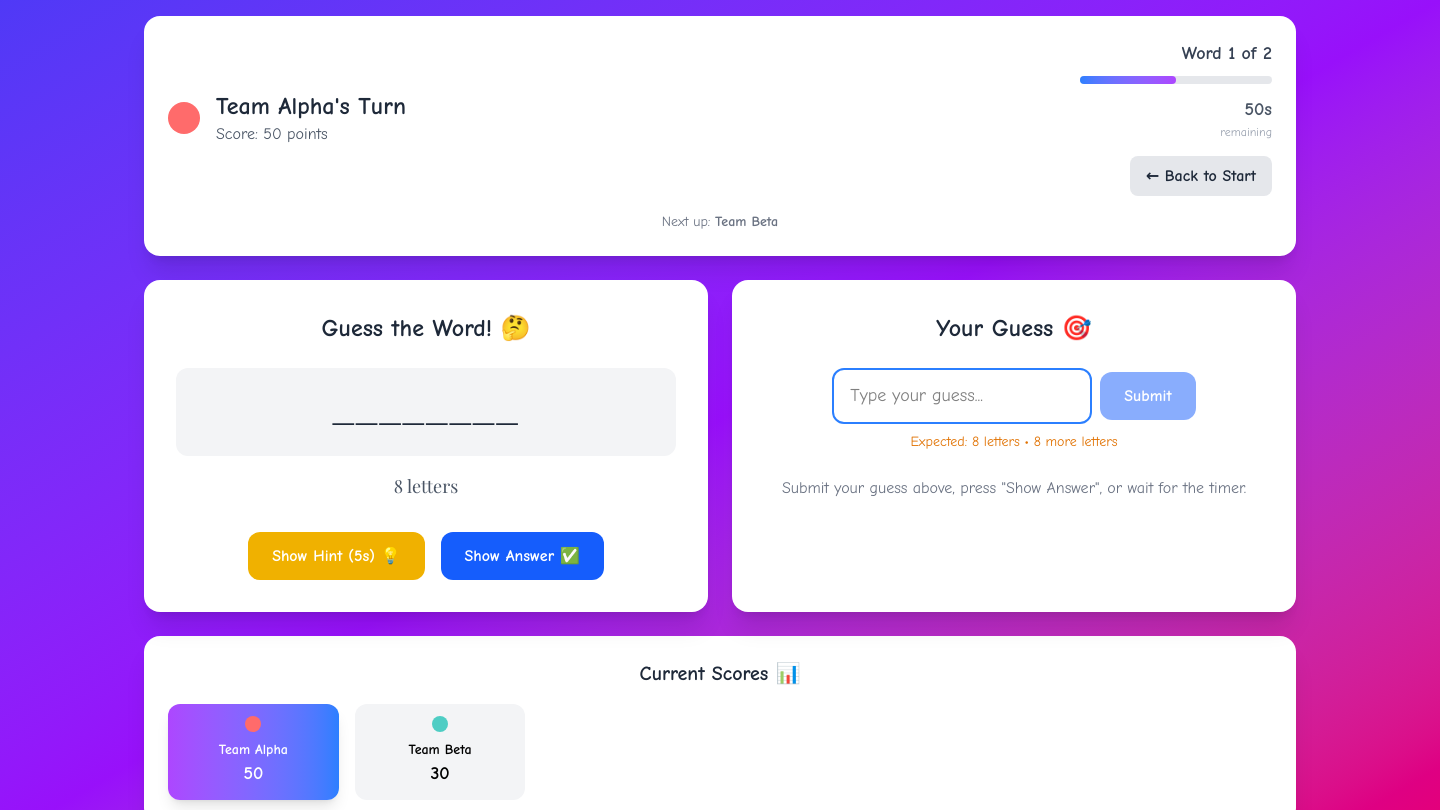
Test: GameScreen › shows hint when hint button is clicked
Click the button "Show Hint (5s) 💡" at point(336, 556), box [248,532,424,580]
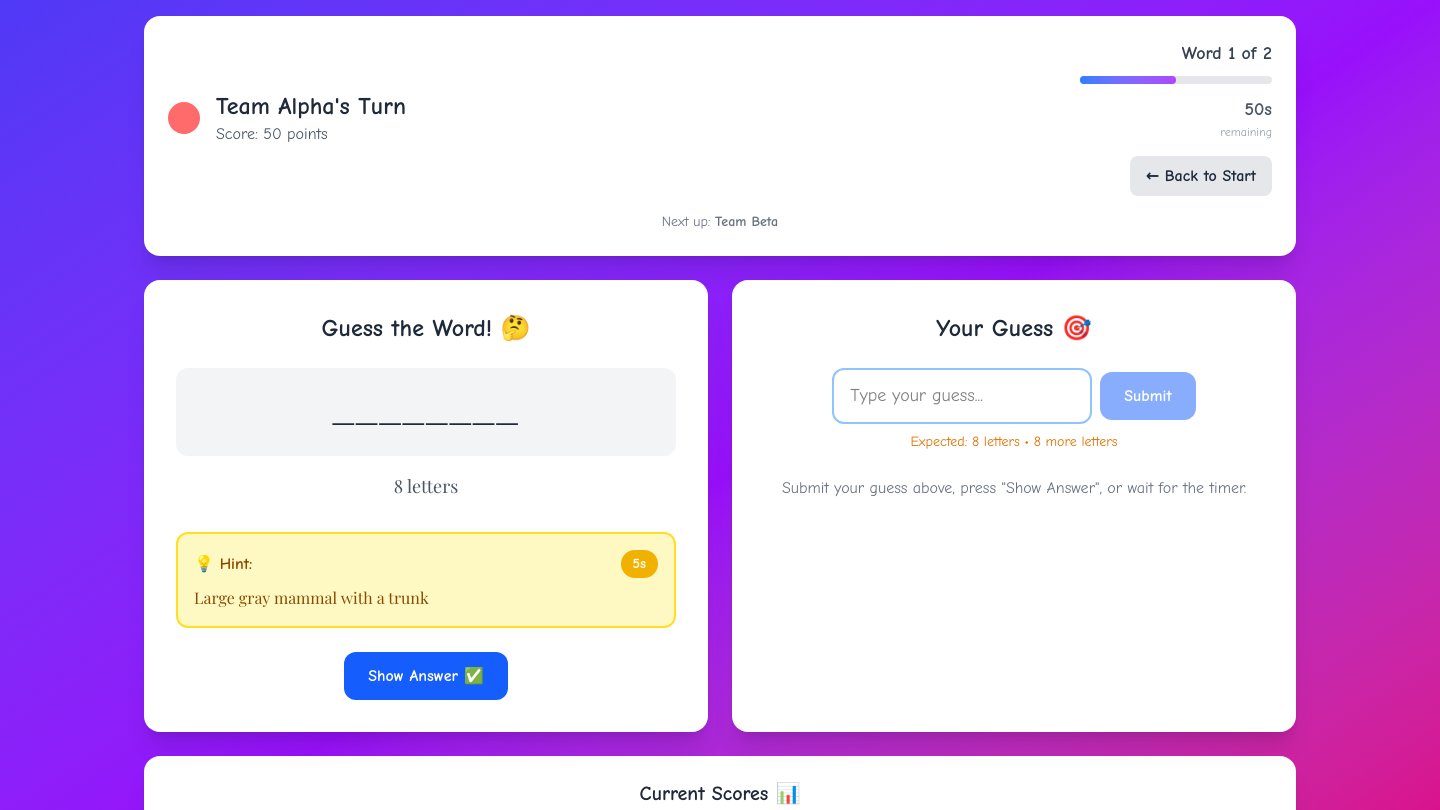
Now the heading "💡 Hint:" is shown, box [194,552,252,576]
Now the text "Large gray mammal with a trunk" is shown, box [194,587,429,608]
